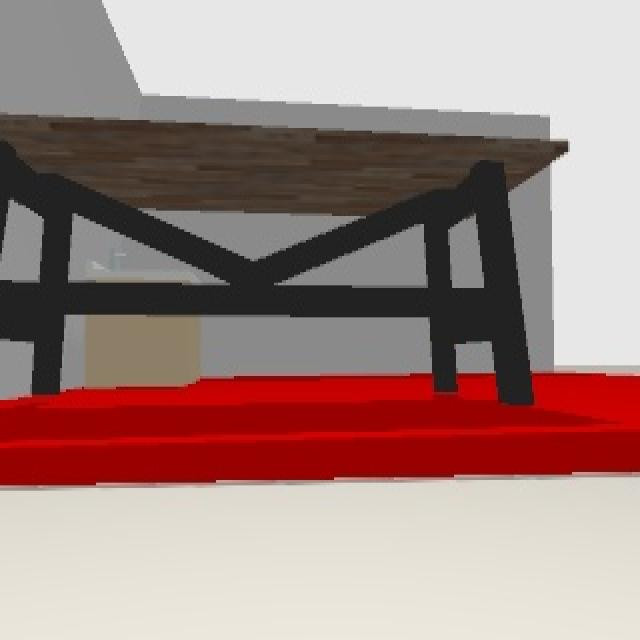dining: (0, 112, 570, 403)
